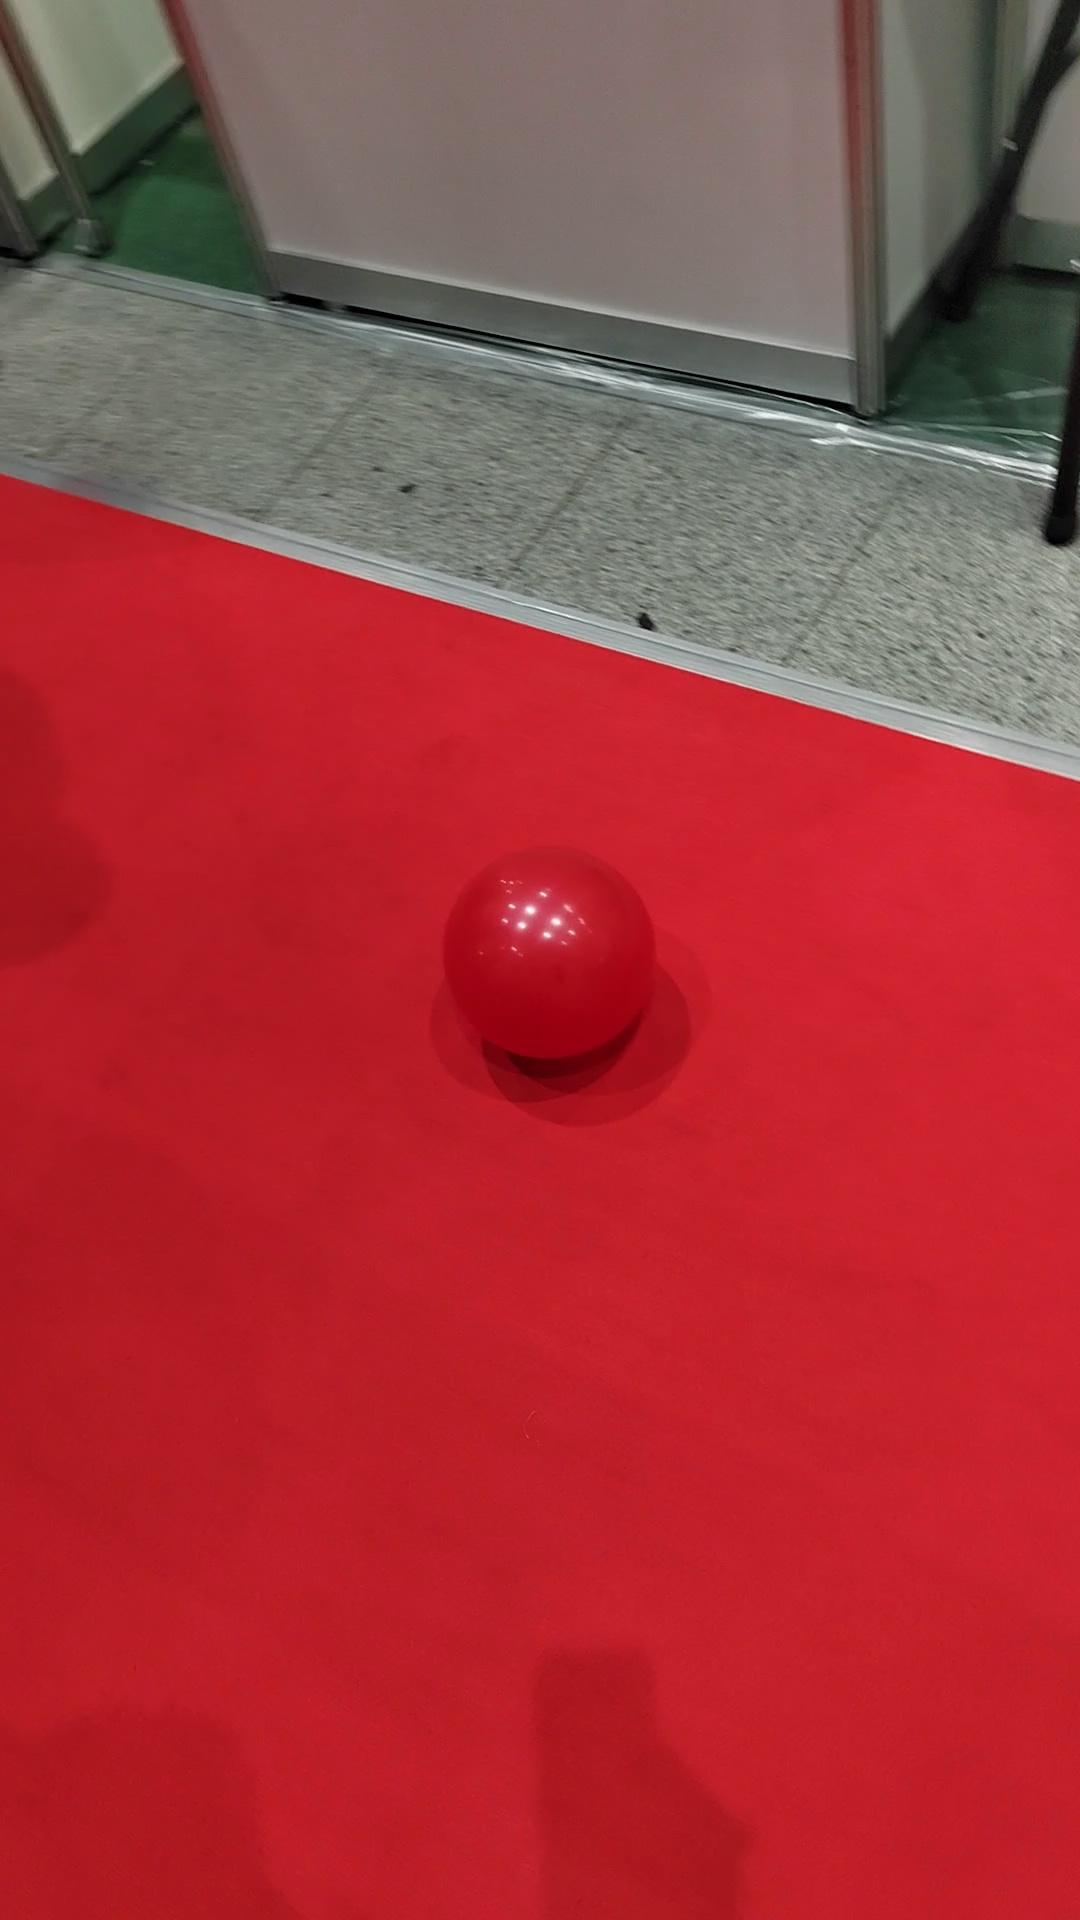red: (442, 849, 651, 1059)
